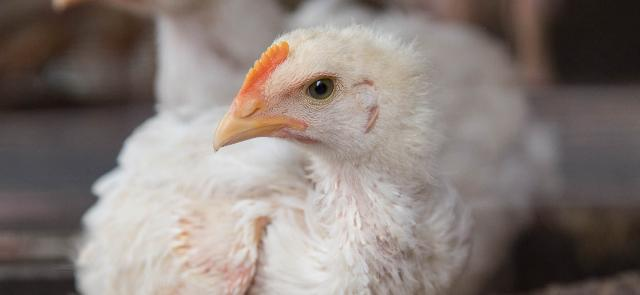Chicken: (74, 22, 478, 295)
